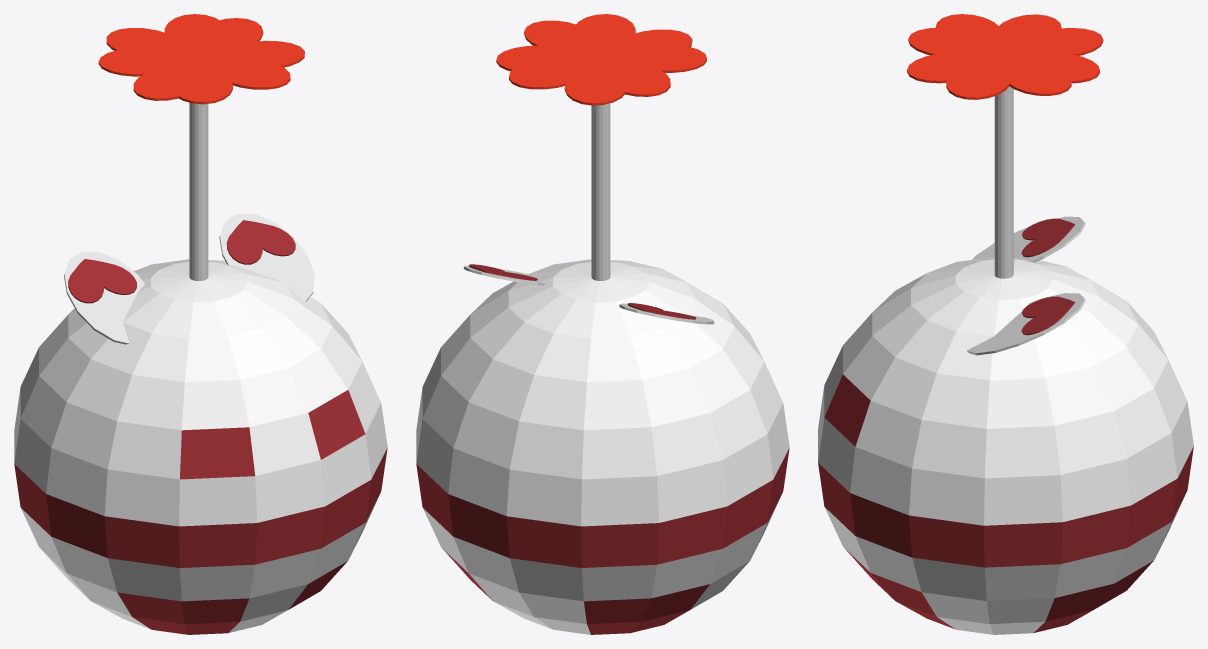
Rendered from BOMBA.fbx.
3 views of the same model, side by side, from view 1: azimuth 30°, elevation 25°; view 2: azimuth 150°, elevation 25°; view 3: azimuth 270°, elevation 25° (orthographic).
Parts seen in each view (by area): view 1: Cylinder; view 2: Cylinder; view 3: Cylinder.
Boxes of the visible parts, bbox=[...] form: Cylinder: bbox=[14, 14, 387, 634]; Cylinder: bbox=[416, 14, 789, 634]; Cylinder: bbox=[818, 14, 1193, 634].
Bounding box in the file's own units: 199 × 327 × 198.
Materials: 6 (3 with a texture image).
